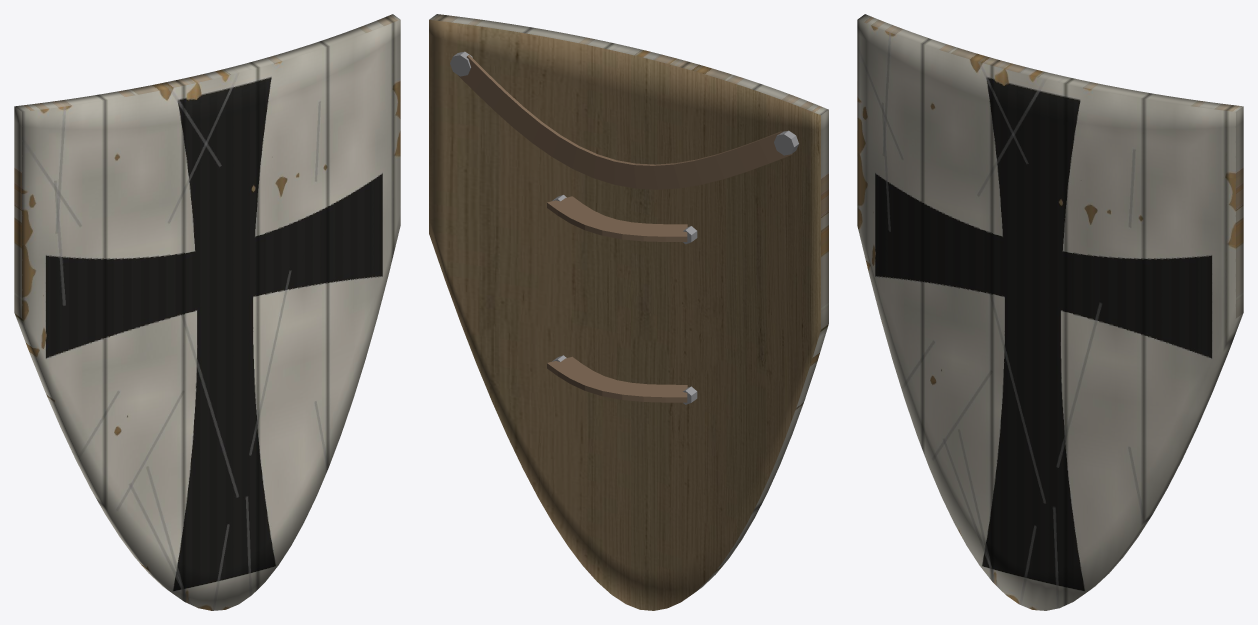
The model's file is heater_order_p3_w1.glb.
3 views of the same model, side by side, from view 1: azimuth 30°, elevation 25°; view 2: azimuth 150°, elevation 25°; view 3: azimuth 330°, elevation 25° (orthographic). The views are drawn at different scales.
Parts seen in each view (by area): view 1: heater_order_p3_w1; view 2: heater_order_p3_w1; view 3: heater_order_p3_w1.
Part boxes in pixels (x1=…): heater_order_p3_w1: x1=14, y1=14, x2=400, y2=610; heater_order_p3_w1: x1=429, y1=14, x2=828, y2=610; heater_order_p3_w1: x1=857, y1=14, x2=1243, y2=610.
Bounding box in the file's own units: 0.46 × 0.62 × 0.092.
Materials: 4 (2 with a texture image).
